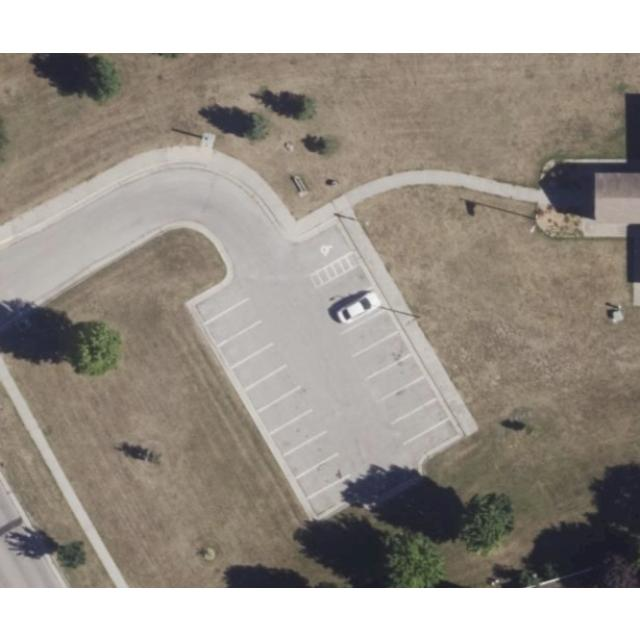Empty: (291, 222, 353, 276), (354, 332, 415, 379), (366, 353, 425, 401), (257, 387, 315, 434), (392, 398, 451, 444), (343, 308, 399, 356), (318, 263, 374, 311), (271, 408, 326, 456), (204, 299, 260, 346), (283, 431, 339, 478), (382, 376, 439, 422), (218, 321, 273, 368), (231, 343, 286, 390), (244, 365, 299, 411), (193, 279, 248, 324), (405, 419, 461, 461), (296, 453, 348, 497), (309, 475, 358, 516)
